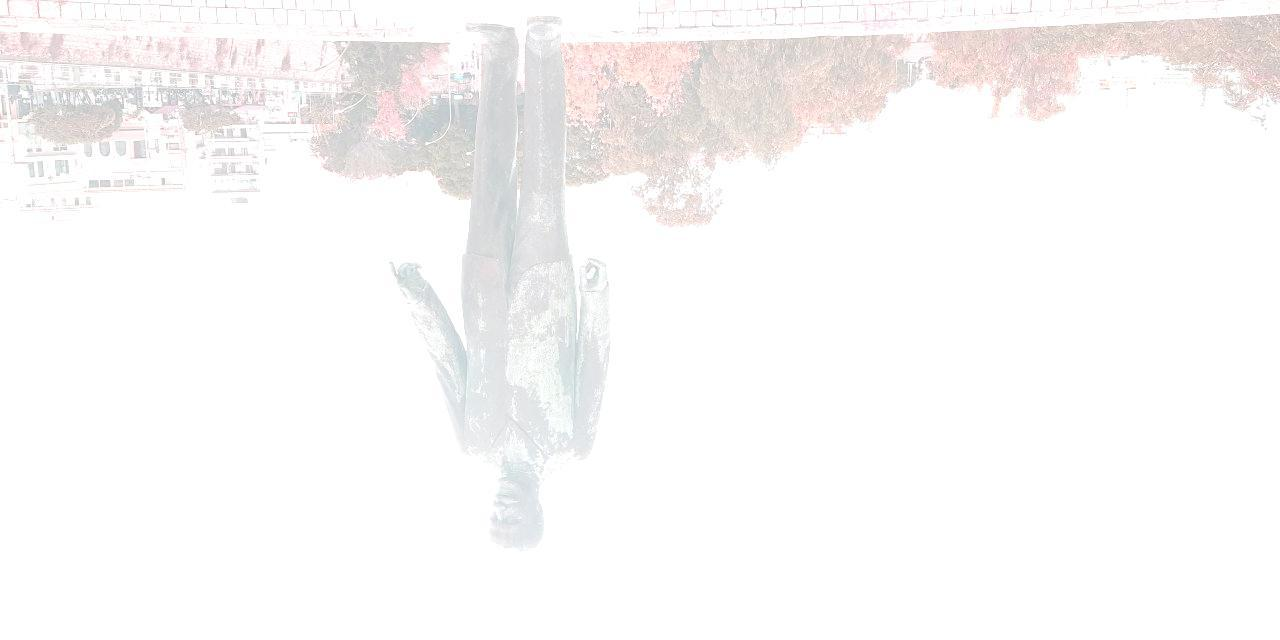Venizelos: (389, 18, 610, 558)
